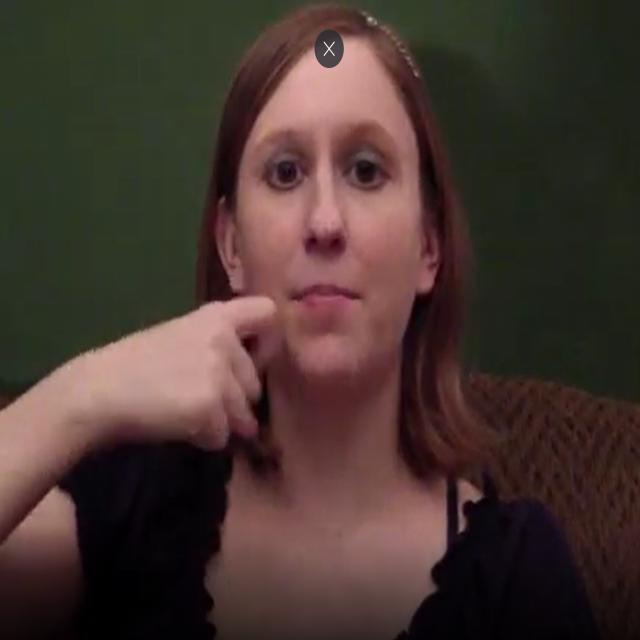apple: (112, 296, 283, 452)
